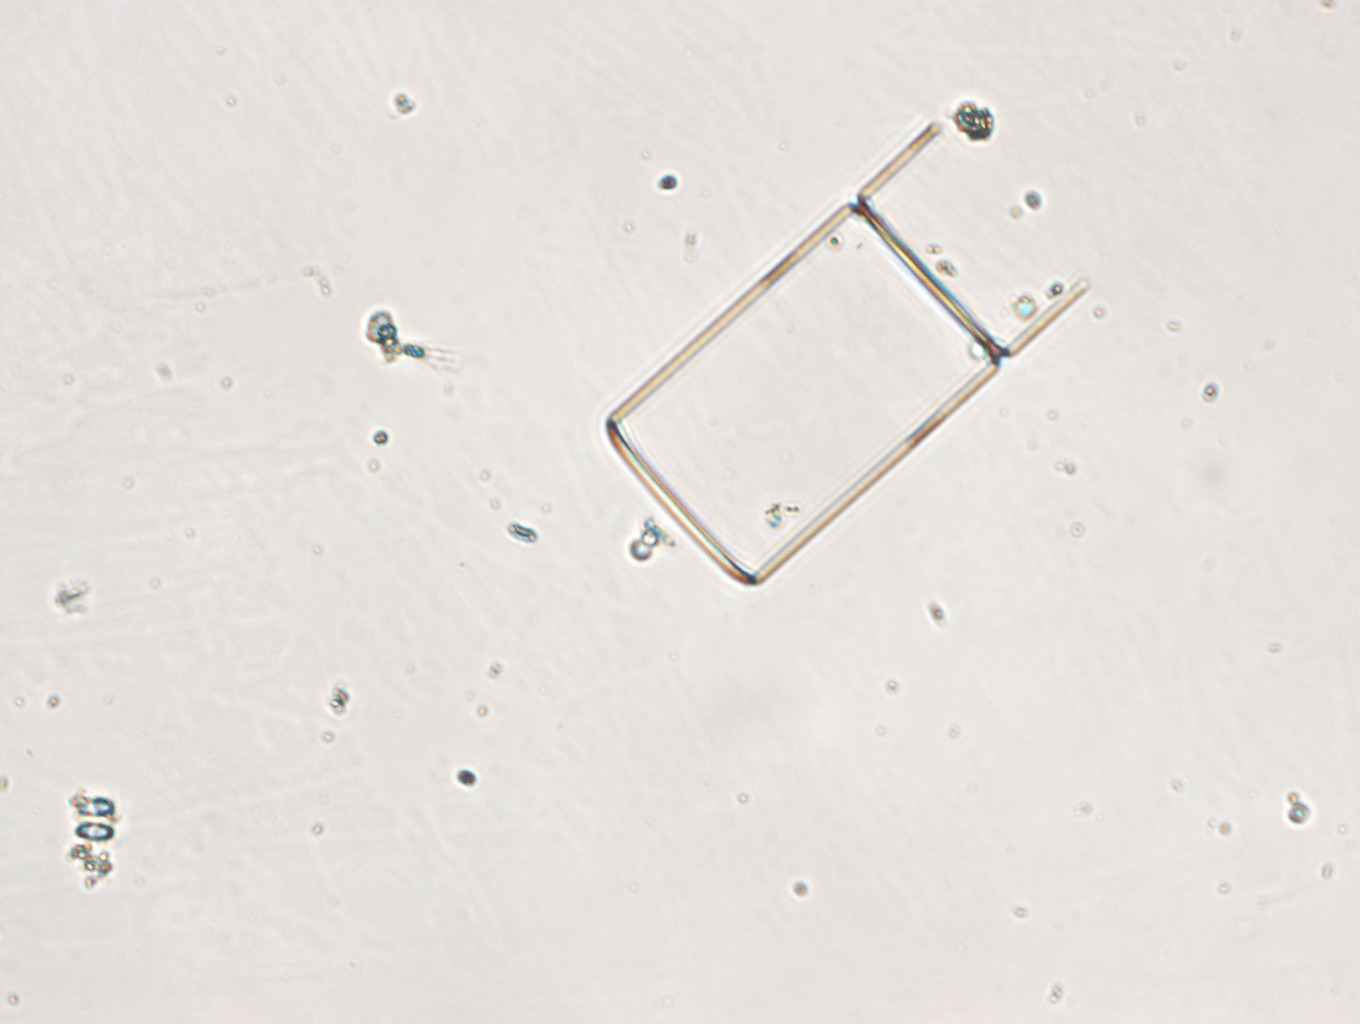guinardia flaccida: (600, 114, 1096, 588)
